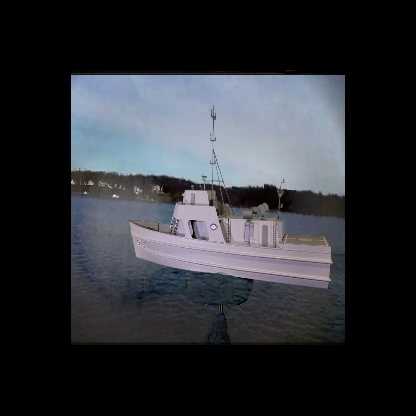YP689: (132, 108, 331, 291)
